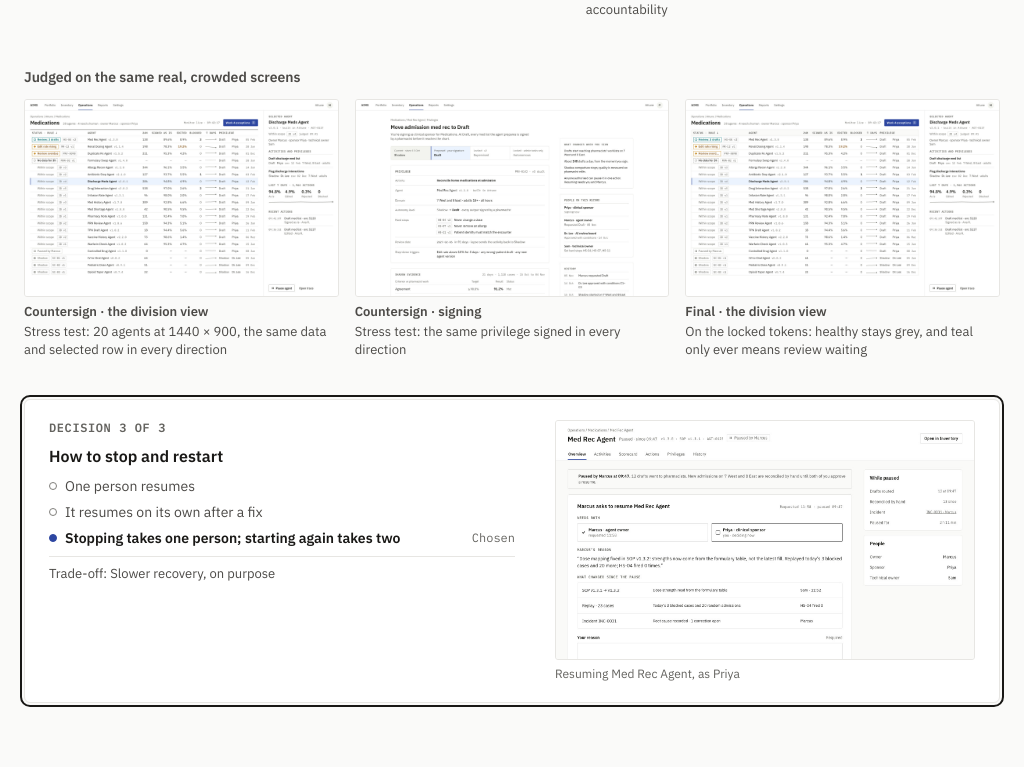
Test: page copy › while the tour plays, opening an image pauses it first
The width and height of the screenshot is (1024, 767).
(page scrolled)
What coordinates should you click on to do the following:
click the button named "Med Rec Agent, paused: Marcus asks to resume and it needs bo"
I would click on:
 (765, 540)
Its box is x1=555 y1=420 x2=975 y2=660.
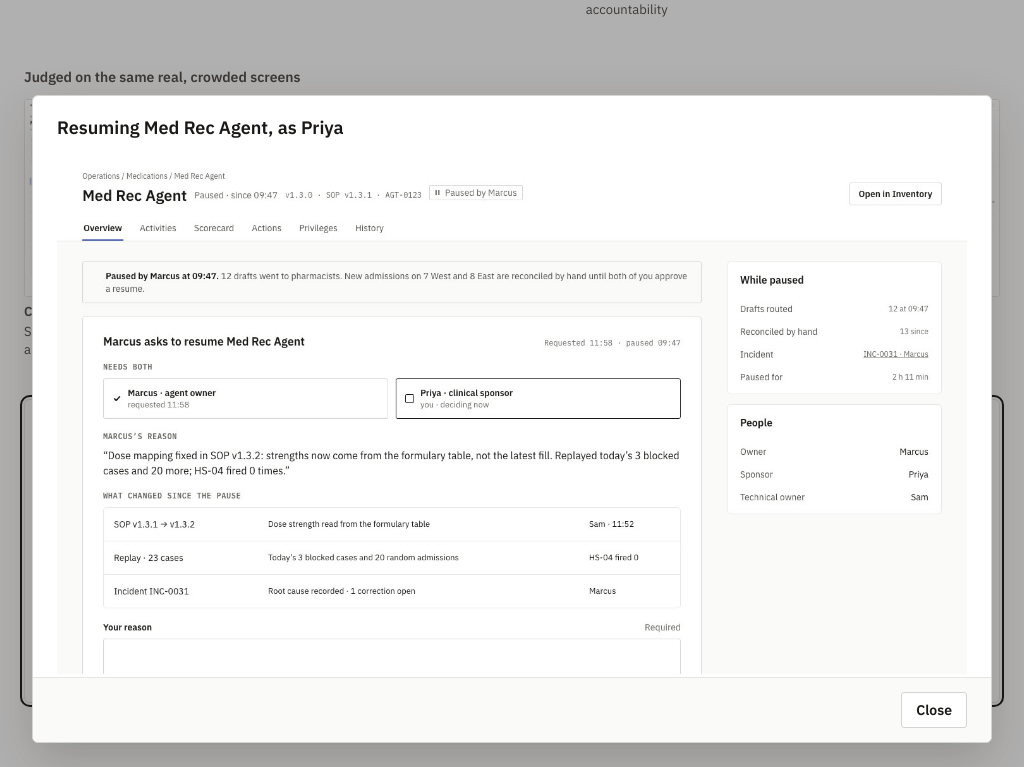
Expected: the dialog is shown
